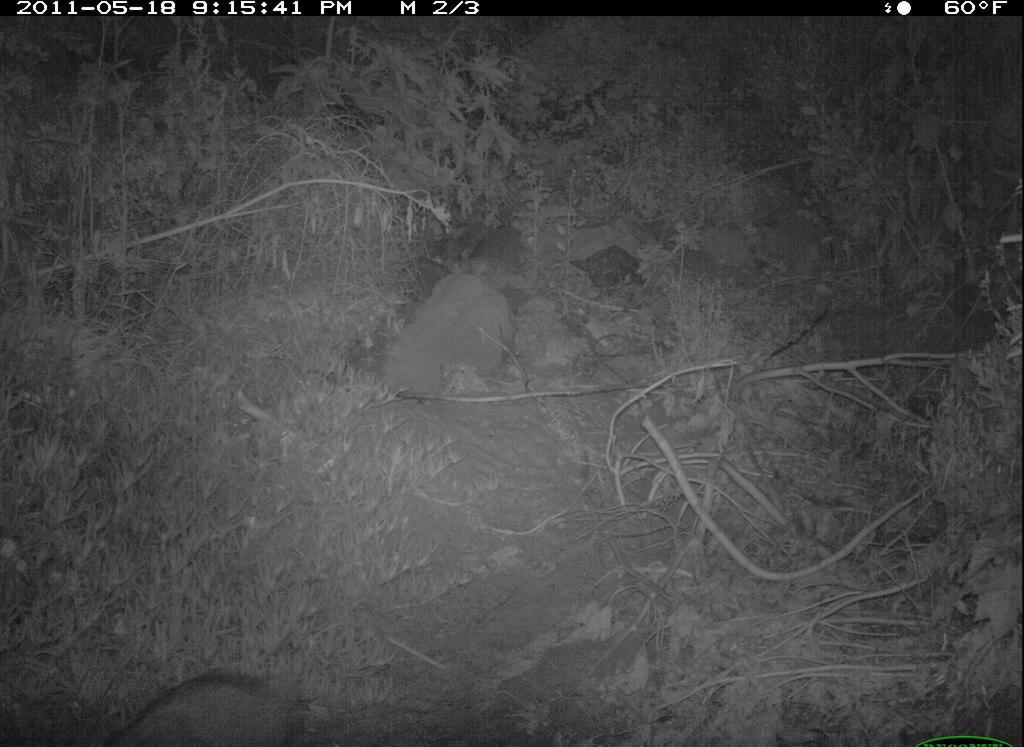raccoon: (94, 665, 319, 747)
